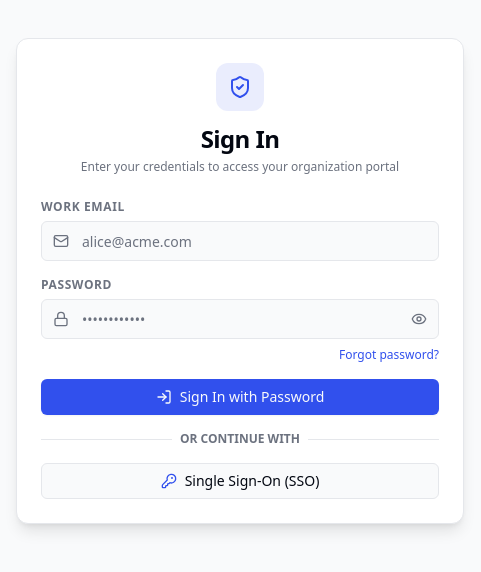
Test case: LoginPage Component › displays validation errors on invalid submission
Click the button "Sign In with Password".
click(240, 397)  # box [41,379,439,415]
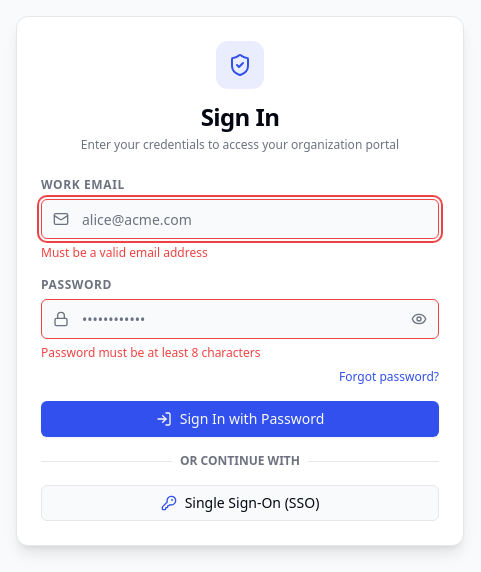
Check: the text "Must be a valid email address" is shown, box [41,244,208,261]
